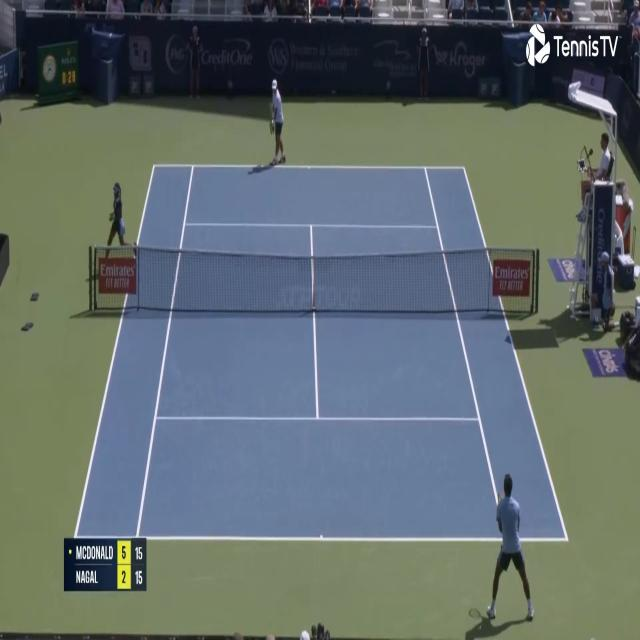tennis-player: (479, 471, 536, 630), (266, 75, 287, 169)
